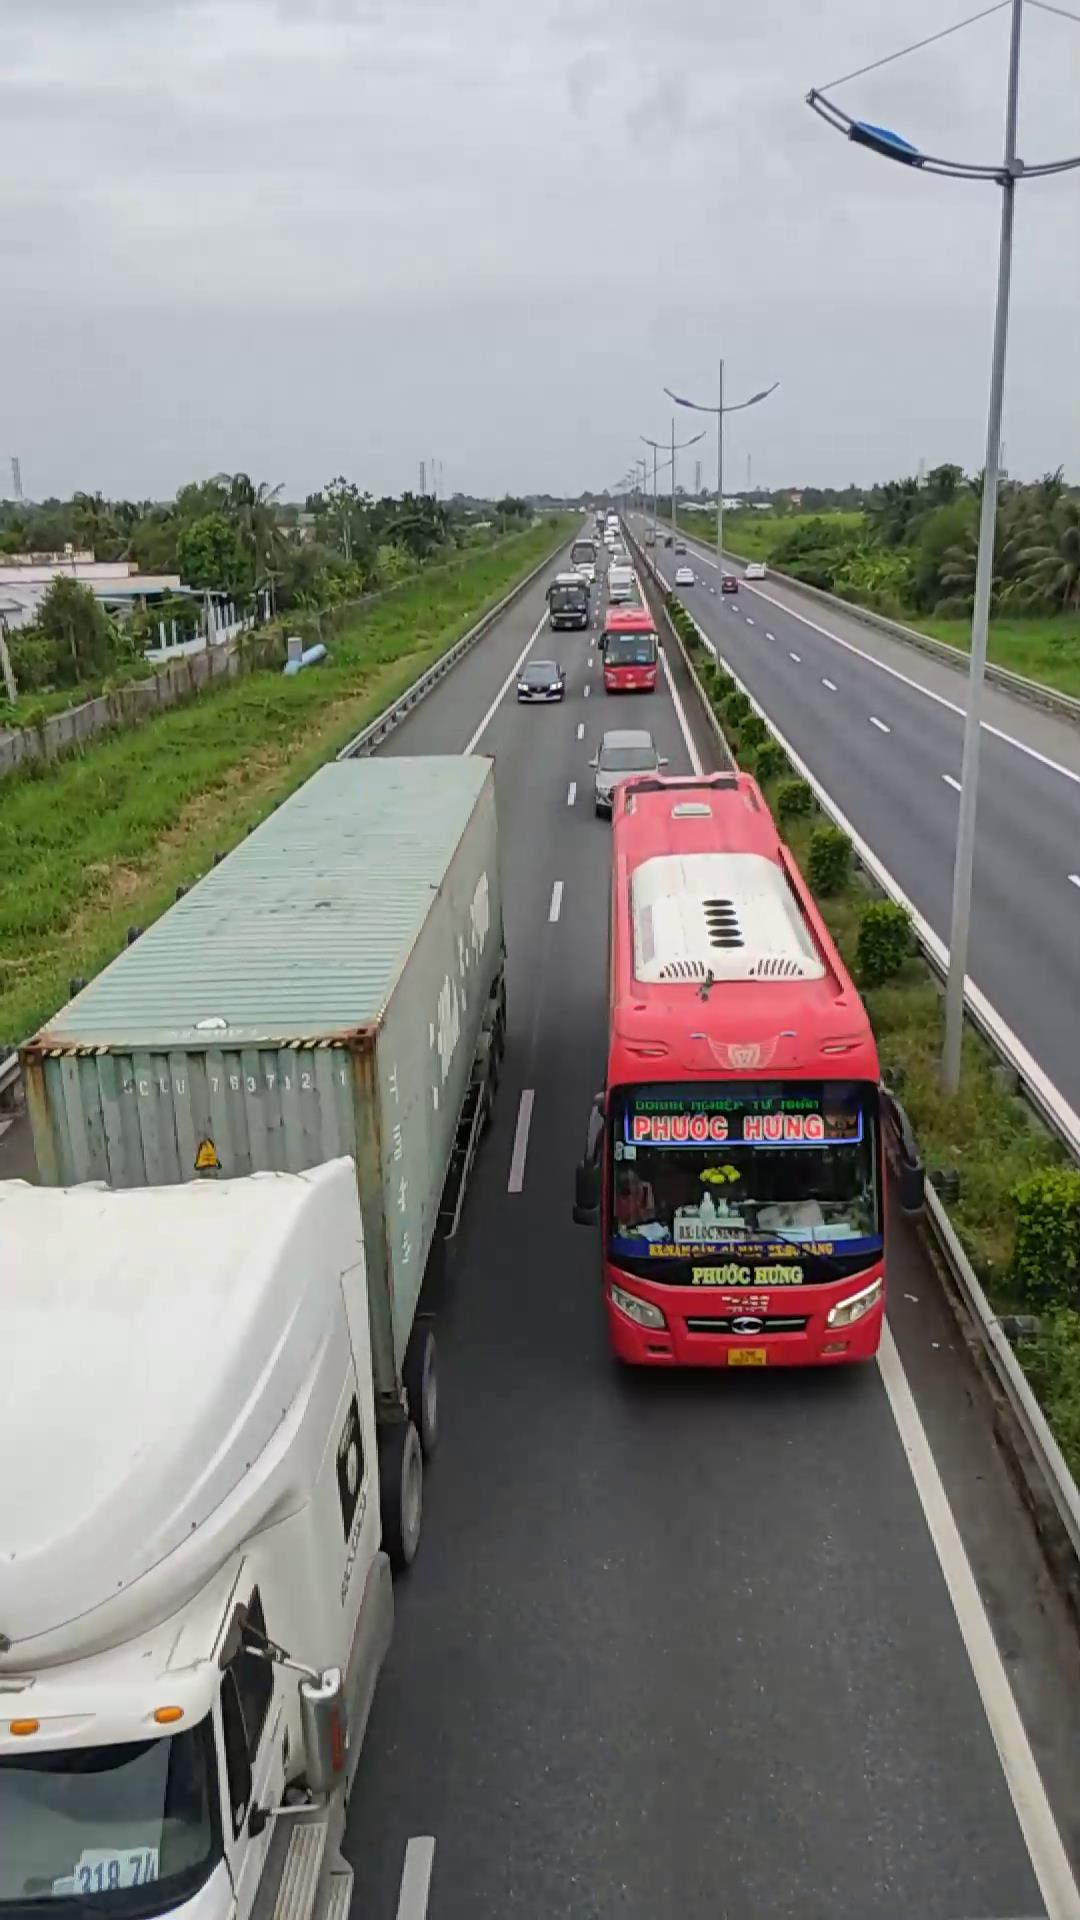bus: (589, 764, 901, 1375)
container: (0, 742, 506, 1915)
